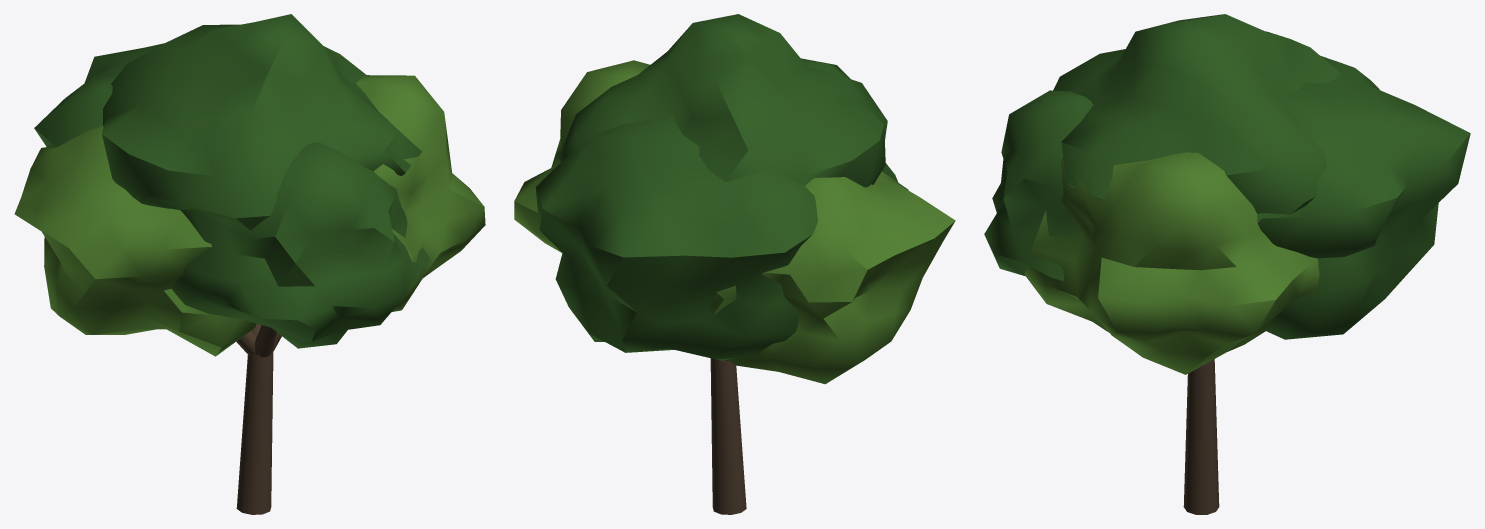
The model's file is Tree_Shade_0.fbx.
3 views of the same model, side by side, from view 1: azimuth 30°, elevation 25°; view 2: azimuth 150°, elevation 25°; view 3: azimuth 270°, elevation 25° (orthographic). The views are drawn at different scales.
Parts seen in each view (by area): view 1: Tree_Shade_0_Mesh; view 2: Tree_Shade_0_Mesh; view 3: Tree_Shade_0_Mesh.
Boxes of the visible parts, box(x1,y1,x2,y2) form: Tree_Shade_0_Mesh: box(14, 14, 485, 514); Tree_Shade_0_Mesh: box(514, 14, 955, 514); Tree_Shade_0_Mesh: box(984, 14, 1470, 514).
Bounding box in the file's own units: 5.83 × 6.69 × 6.03.
